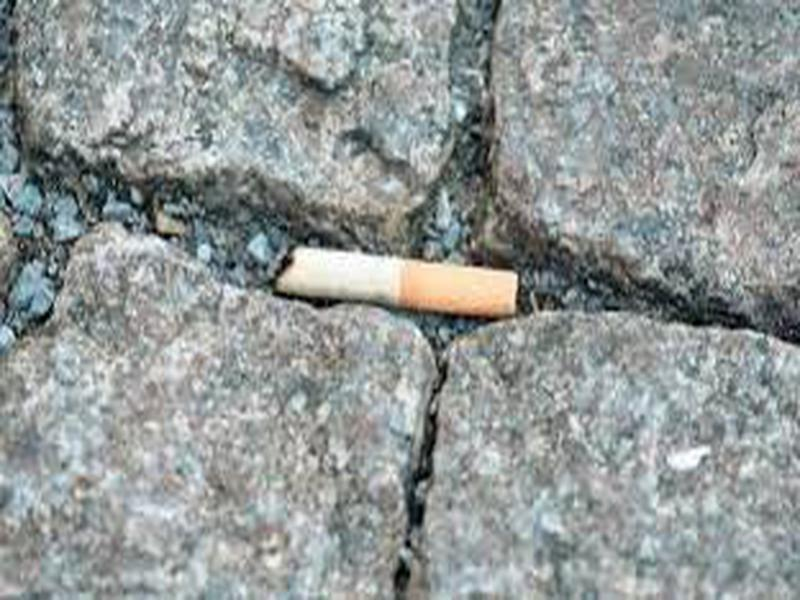burned_cigarette: (265, 240, 521, 318)
